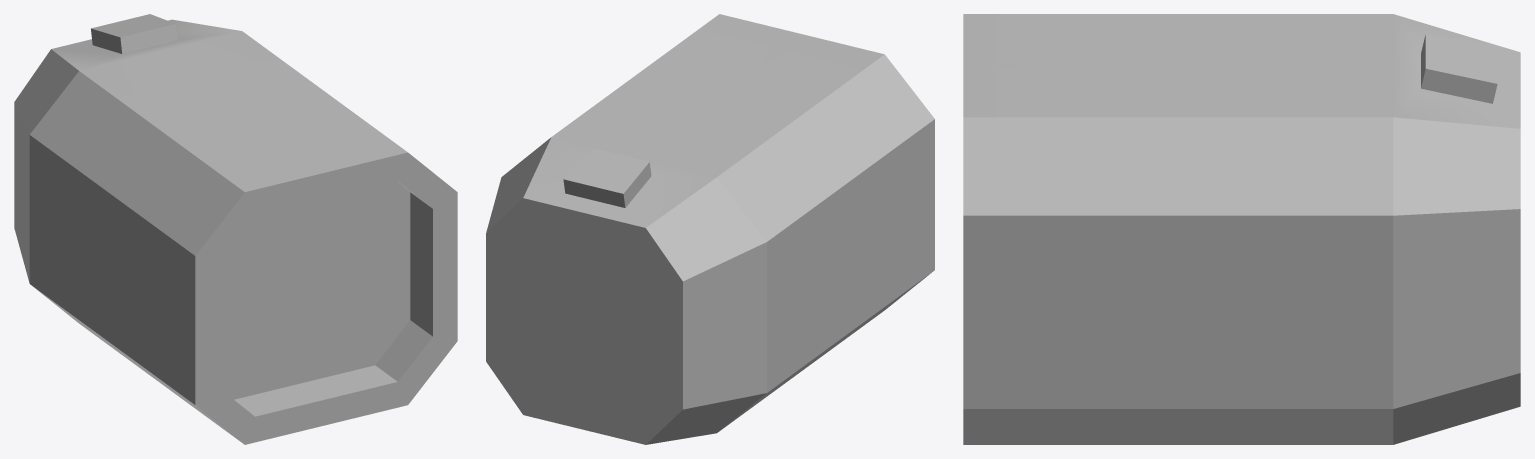
Rendered from Spotlight.fbx.
3 views of the same model, side by side, from view 1: azimuth 30°, elevation 25°; view 2: azimuth 150°, elevation 25°; view 3: azimuth 270°, elevation 25° (orthographic). The views are drawn at different scales.
Parts seen in each view (by area): view 1: polySurface30; view 2: polySurface30; view 3: polySurface30.
Boxes of the visible parts, box(x1,y1,x2,y2) form: polySurface30: box(14, 14, 457, 444); polySurface30: box(486, 14, 934, 444); polySurface30: box(963, 14, 1520, 444).
Bounding box in the file's own units: 78.75 × 75.76 × 112.
Materials: 1 (1 with a texture image).
